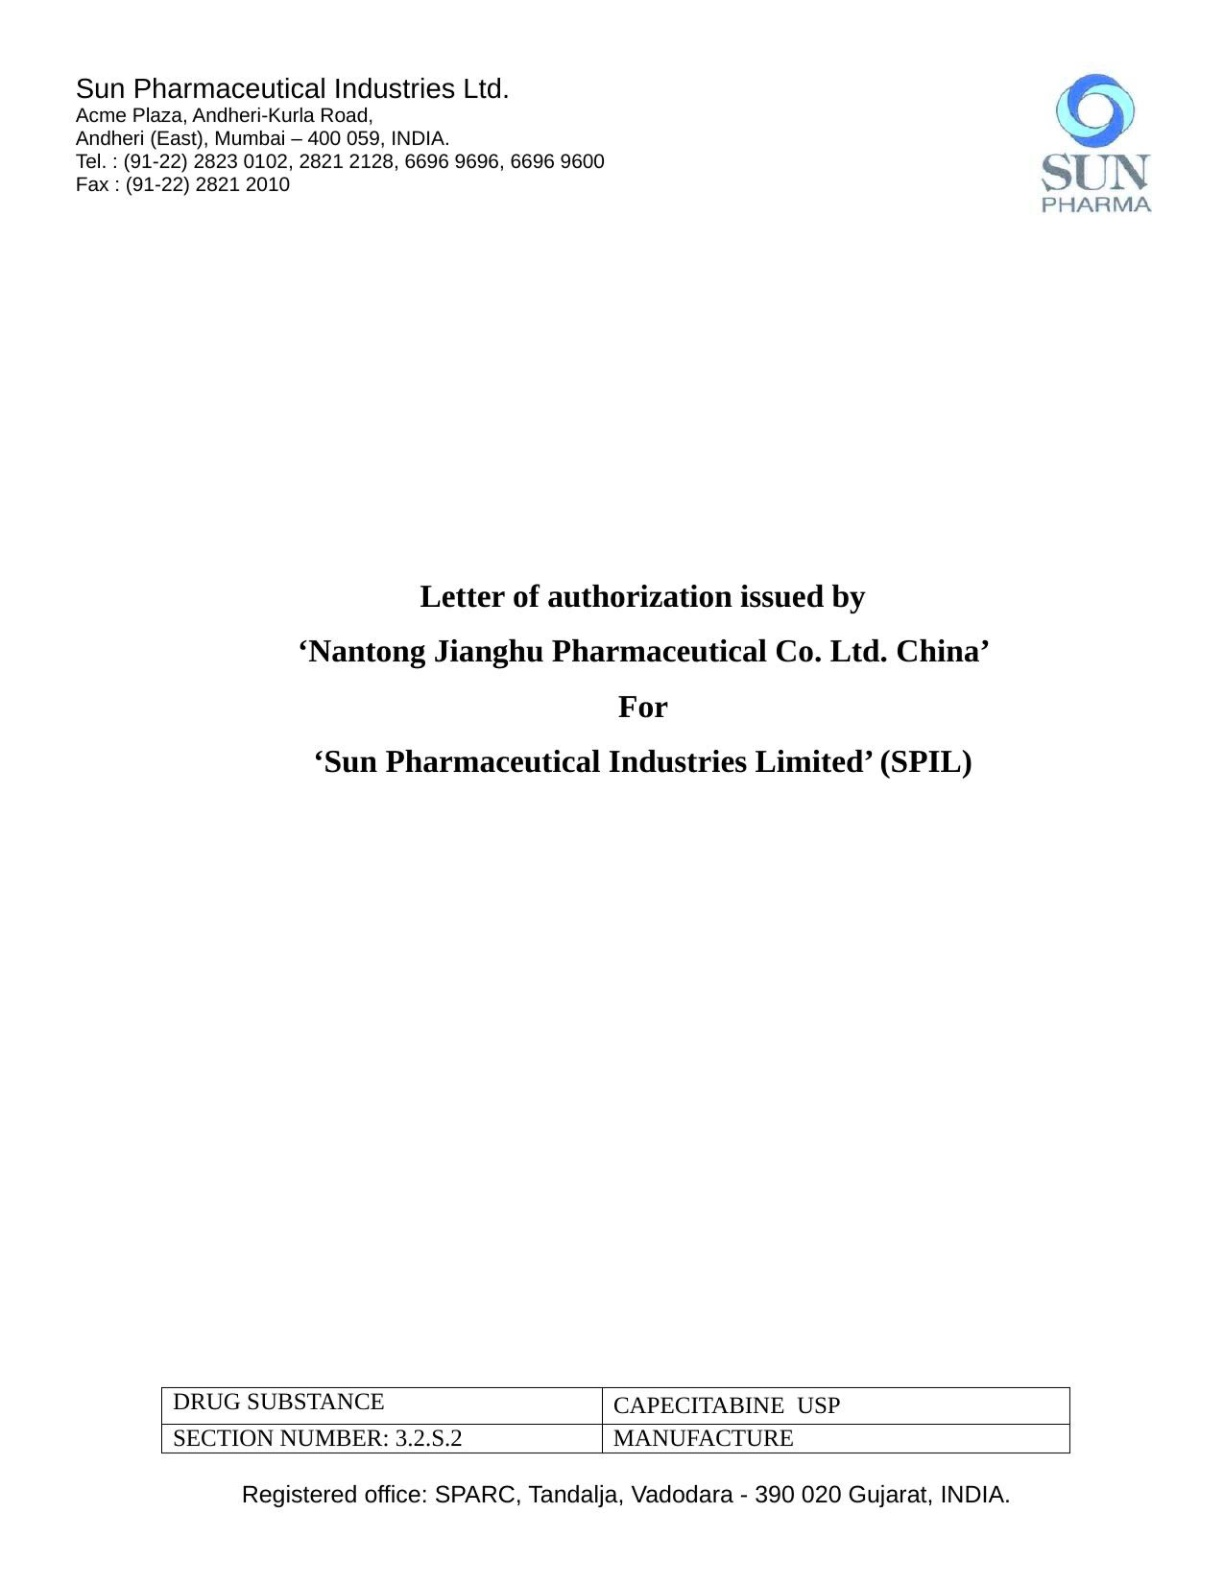full_lined: (159, 1384, 1071, 1455)
